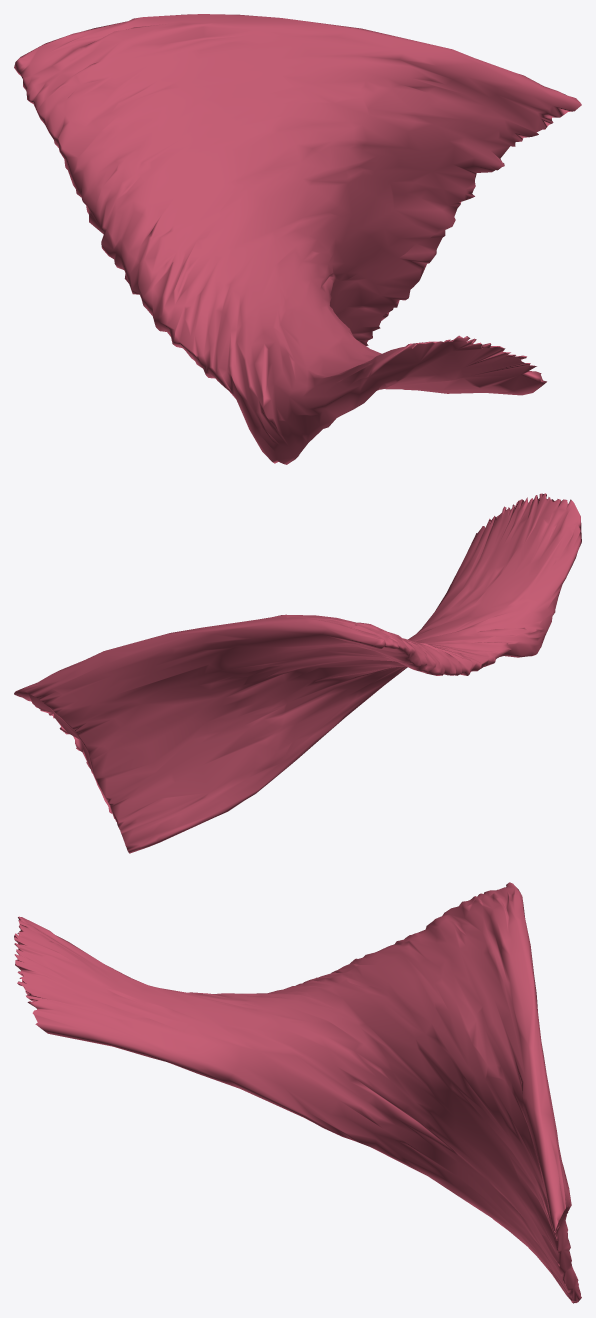
3 renders of one model, top to bottom at view 1: azimuth 30°, elevation 25°; view 2: azimuth 150°, elevation 25°; view 3: azimuth 270°, elevation 25°, orthographic. The views are drawn at different scales.
Visible parts, largest first — view 1: 左侧斜方肌升部; view 2: 左侧斜方肌升部; view 3: 左侧斜方肌升部.
Part boxes in pixels (left/top/right/bottom): 左侧斜方肌升部: left=14, top=14, right=581, bottom=464; 左侧斜方肌升部: left=14, top=493, right=581, bottom=853; 左侧斜方肌升部: left=14, top=882, right=581, bottom=1303.
Bounding box in the file's own units: 0.1991 × 0.1357 × 0.2346.
